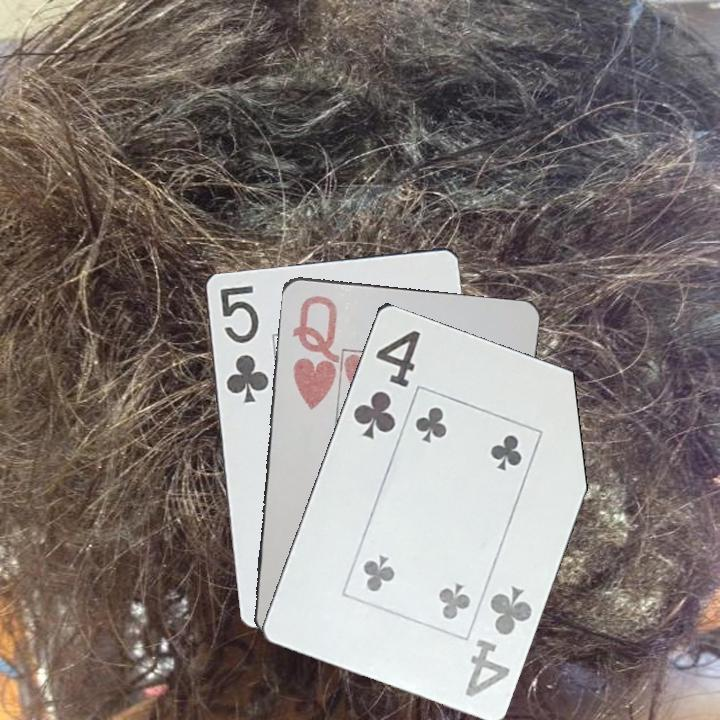4c: (461, 581, 535, 700), (349, 326, 423, 442)
5c: (215, 281, 272, 405)
Qh: (288, 291, 340, 413)
